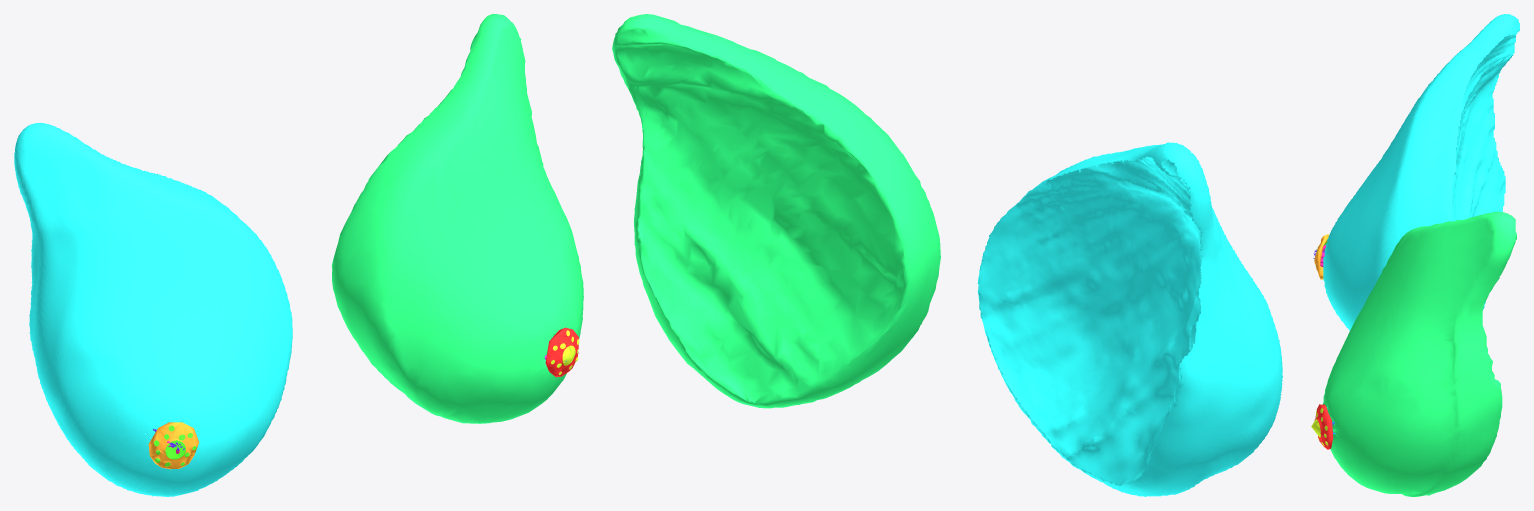
The model's file is mamma-female-lod.glb.
The picture shows the model from 3 angles, left to right: view 1: azimuth 30°, elevation 25°; view 2: azimuth 150°, elevation 25°; view 3: azimuth 270°, elevation 25°; orthographic projection. The views are drawn at different scales.
Parts seen in each view (by area): view 1: 0:11:VH_F_fat_R, 0:2:VH_F_fat_L, 0:9:VH_F_areola_R, 0:0:VH_F_areola_L; view 2: 0:2:VH_F_fat_L, 0:11:VH_F_fat_R; view 3: 0:2:VH_F_fat_L, 0:11:VH_F_fat_R, 0:0:VH_F_areola_L, 0:9:VH_F_areola_R.
Part boxes in pixels (box(x1,y1,x2,y2)): 0:11:VH_F_fat_R: box(14, 122, 292, 496); 0:2:VH_F_fat_L: box(331, 14, 583, 423); 0:9:VH_F_areola_R: box(148, 422, 199, 469); 0:0:VH_F_areola_L: box(545, 327, 578, 377); 0:2:VH_F_fat_L: box(612, 14, 940, 408); 0:11:VH_F_fat_R: box(977, 142, 1282, 496); 0:2:VH_F_fat_L: box(1322, 211, 1516, 496); 0:11:VH_F_fat_R: box(1323, 14, 1519, 330); 0:0:VH_F_areola_L: box(1314, 404, 1333, 449); 0:9:VH_F_areola_R: box(1314, 234, 1329, 279).
Size of the model in its own units: 0.2891 by 0.1826 by 0.1133.
